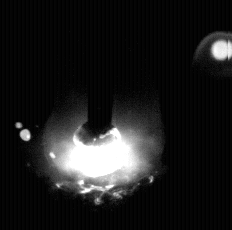arame: (88, 0, 114, 144)
poca: (42, 0, 164, 230)
